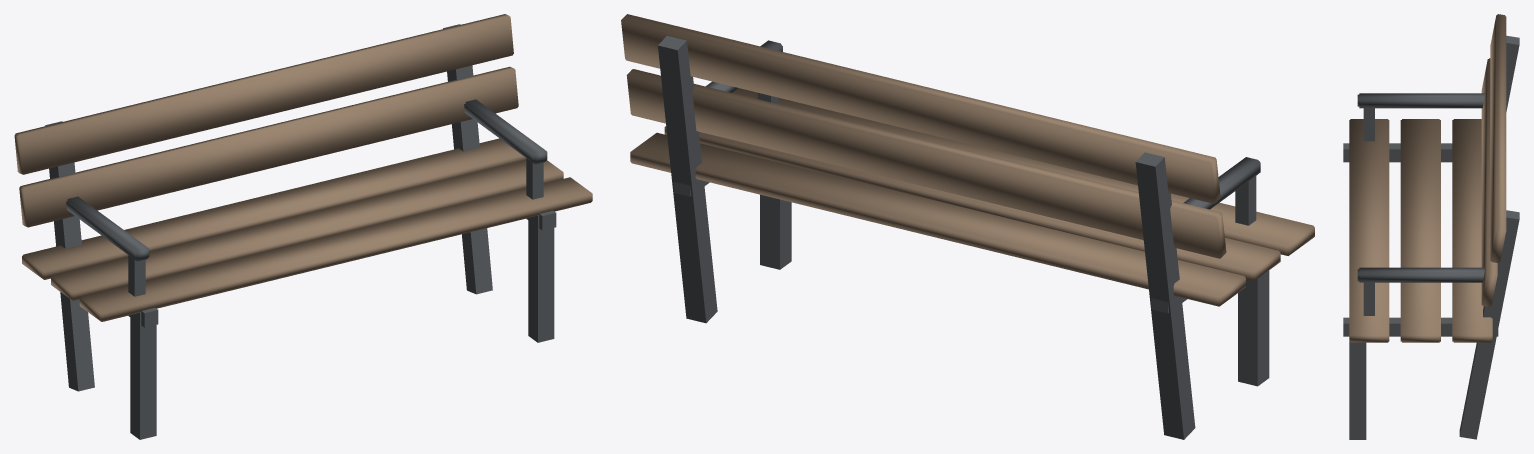
The model's file is courtyard_bench.glb.
3 views of the same model, side by side, from view 1: azimuth 30°, elevation 25°; view 2: azimuth 150°, elevation 25°; view 3: azimuth 270°, elevation 25° (orthographic). The views are drawn at different scales.
Visible parts, largest first — view 1: BackSlat_1, BackSlat_0, SeatSlat_0, SeatSlat_1, SeatSlat_2, BackPost_-0.7, FrontLeg_-0.7, FrontLeg_0.7, BackPost_0.7, Armrest_-0.7, Armrest_0.7, ArmSupport_-0.7 (+1 smaller); view 2: BackSlat_1, BackSlat_0, SeatSlat_2, BackPost_0.7, BackPost_-0.7, SeatSlat_1, SeatSlat_0, FrontLeg_-0.7, FrontLeg_0.7, Armrest_-0.7, ArmSupport_-0.7; view 3: SeatSlat_1, SeatSlat_0, SeatSlat_2, BackSlat_1, BackPost_0.7, BackSlat_0, Armrest_0.7, Armrest_-0.7, FrontLeg_0.7, SeatStrut_0.7, SeatStrut_-0.7, BackPost_-0.7 (+2 smaller).
Part boxes in pixels (left/top/right/bottom): BackSlat_1: left=14, top=14, right=513, bottom=174; BackSlat_0: left=19, top=66, right=518, bottom=227; SeatSlat_0: left=79, top=177, right=592, bottom=321; SeatSlat_1: left=51, top=160, right=563, bottom=300; SeatSlat_2: left=22, top=138, right=526, bottom=279; BackPost_-0.7: left=45, top=121, right=94, bottom=391; FrontLeg_-0.7: left=130, top=312, right=156, bottom=439; FrontLeg_0.7: left=528, top=215, right=554, bottom=342; BackPost_0.7: left=443, top=24, right=492, bottom=294; Armrest_-0.7: left=66, top=196, right=149, bottom=261; Armrest_0.7: left=464, top=99, right=547, bottom=164; ArmSupport_-0.7: left=128, top=255, right=145, bottom=296; BackSlat_1: left=621, top=14, right=1220, bottom=203; BackSlat_0: left=626, top=69, right=1226, bottom=258; SeatSlat_2: left=630, top=132, right=1245, bottom=306; BackPost_0.7: left=658, top=36, right=717, bottom=323; BackPost_-0.7: left=1135, top=152, right=1195, bottom=439; SeatSlat_1: left=664, top=126, right=1280, bottom=281; SeatSlat_0: left=733, top=88, right=1314, bottom=255; FrontLeg_-0.7: left=1238, top=270, right=1269, bottom=386; FrontLeg_0.7: left=760, top=194, right=791, bottom=269; Armrest_-0.7: left=1183, top=157, right=1260, bottom=209; ArmSupport_-0.7: left=1235, top=176, right=1256, bottom=225; SeatSlat_1: left=1400, top=119, right=1440, bottom=342; SeatSlat_0: left=1349, top=119, right=1389, bottom=342; SeatSlat_2: left=1452, top=119, right=1492, bottom=342; BackSlat_1: left=1490, top=14, right=1506, bottom=263; BackPost_0.7: left=1459, top=210, right=1519, bottom=439; BackSlat_0: left=1481, top=58, right=1497, bottom=307; Armrest_0.7: left=1357, top=267, right=1484, bottom=282; Armrest_-0.7: left=1357, top=93, right=1484, bottom=108; FrontLeg_0.7: left=1349, top=341, right=1366, bottom=439; SeatStrut_0.7: left=1343, top=317, right=1498, bottom=336; SeatStrut_-0.7: left=1343, top=143, right=1452, bottom=162; BackPost_-0.7: left=1506, top=35, right=1519, bottom=111.
Size of the model in its own units: 1.78 by 0.8764 by 0.6142.
